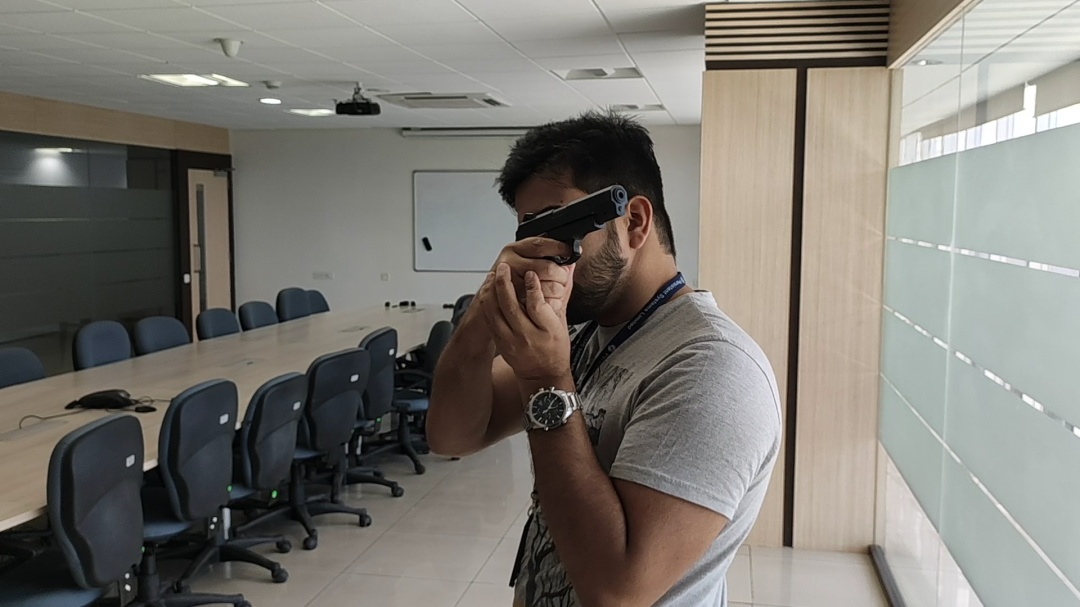gun: (122, 4, 799, 533)
